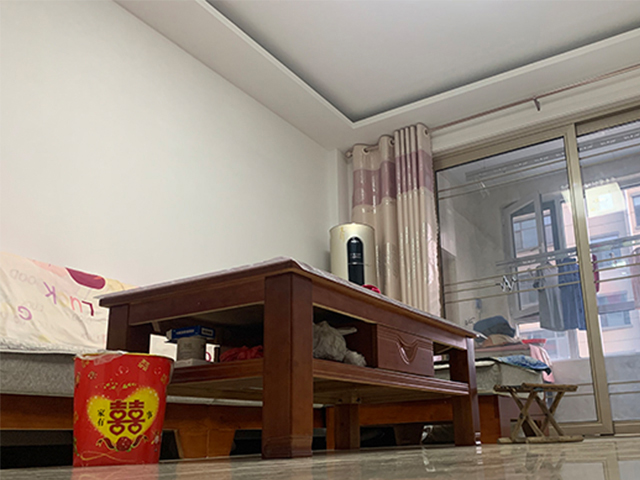curtain: (362, 124, 445, 315)
sofa: (1, 251, 101, 432)
stool: (494, 380, 585, 444)
table: (99, 256, 484, 460)
trashcan: (71, 350, 175, 467)
